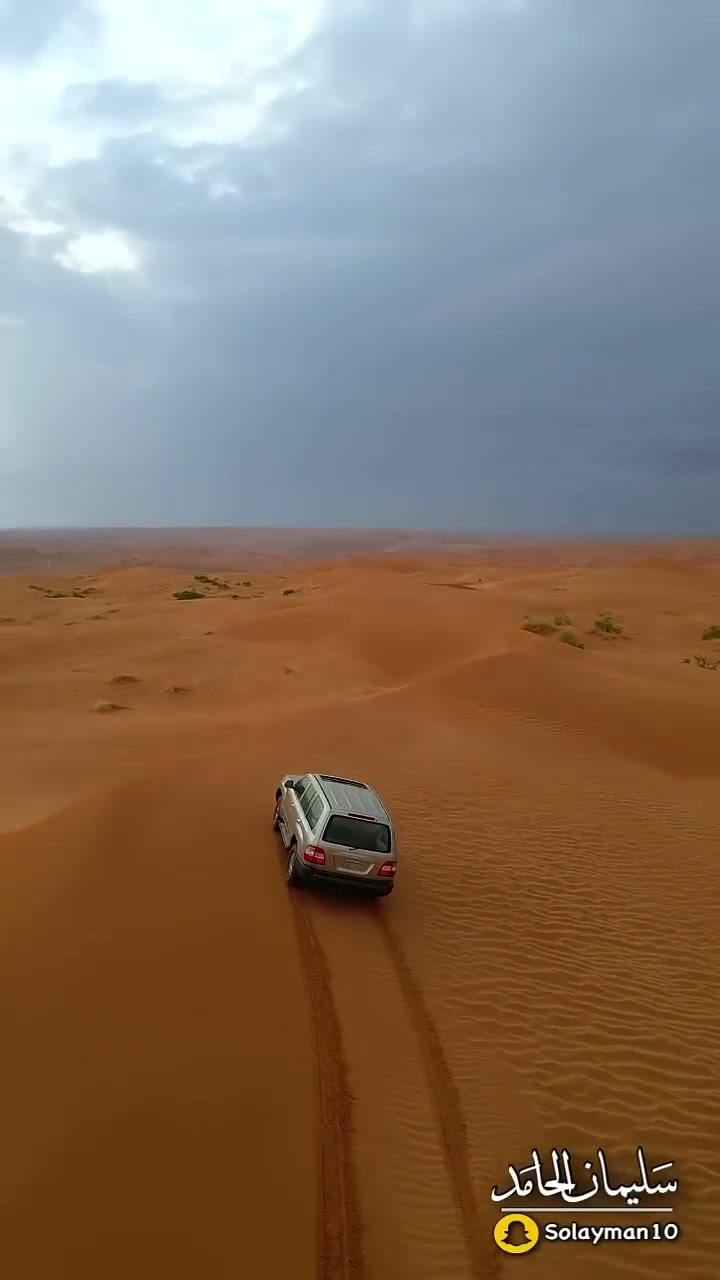vehicle_track: (376, 910, 500, 1279), (291, 893, 367, 1279)
